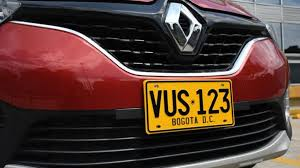placa_carro: (145, 79, 234, 136)
